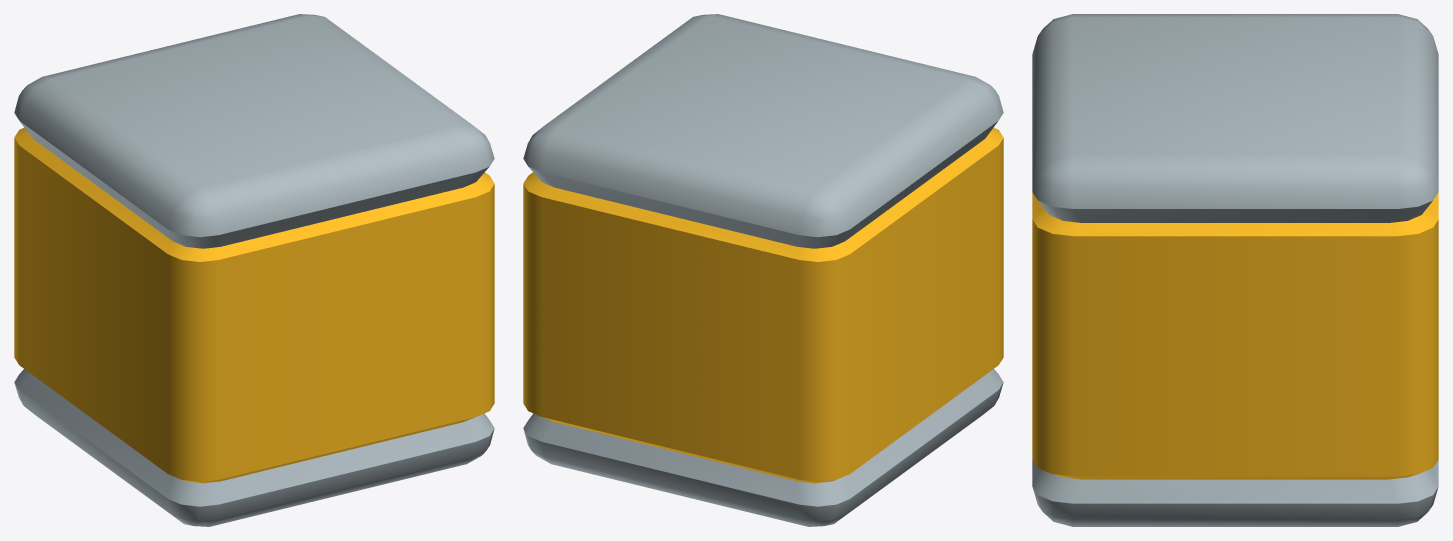
The model's file is powerupBlock_teamYellow.glb.
3 views of the same model, side by side, from view 1: azimuth 30°, elevation 25°; view 2: azimuth 150°, elevation 25°; view 3: azimuth 270°, elevation 25° (orthographic). The views are drawn at different scales.
Parts seen in each view (by area): view 1: powerupBlock_teamYellow; view 2: powerupBlock_teamYellow; view 3: powerupBlock_teamYellow.
Part boxes in pixels (x1,y1,x2,y2): powerupBlock_teamYellow: [14, 14, 494, 526]; powerupBlock_teamYellow: [523, 14, 1003, 526]; powerupBlock_teamYellow: [1032, 14, 1438, 526].
Size of the model in its own units: 0.35 by 0.35 by 0.35.
